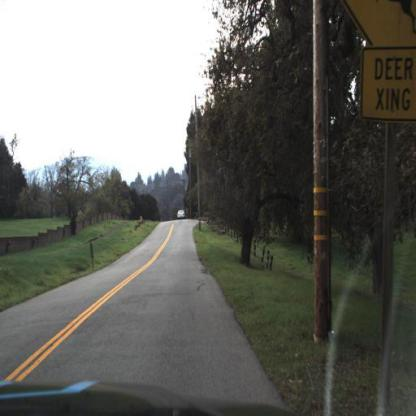car: (175, 203, 189, 221), (177, 209, 186, 222)
